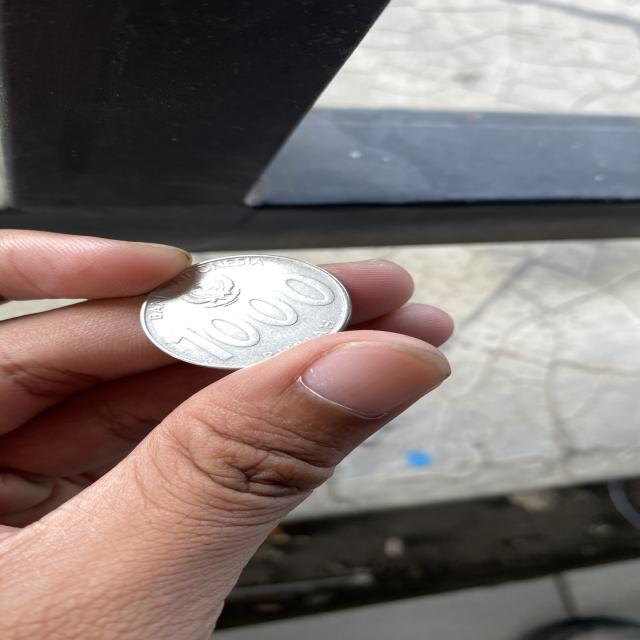1000-angklung: (138, 245, 353, 375)
